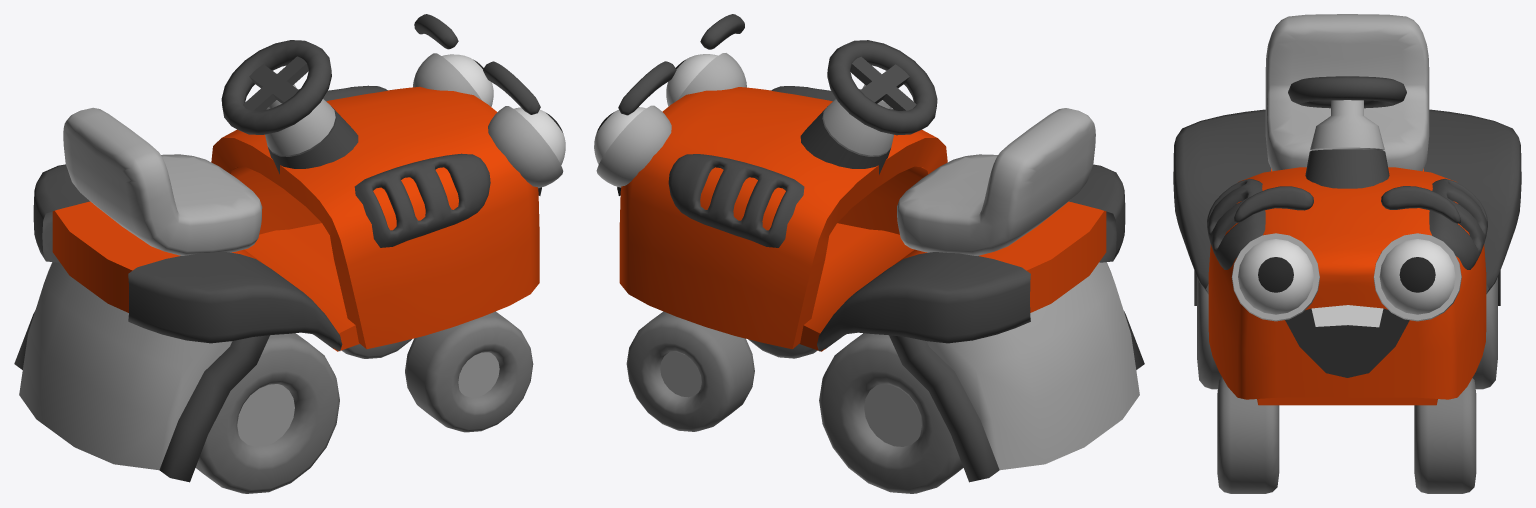
The model's file is SM_Truck_01.fbx.
3 renders of one model, left to right at view 1: azimuth 30°, elevation 25°; view 2: azimuth 150°, elevation 25°; view 3: azimuth 270°, elevation 25°, orthographic.
Parts seen in each view (by area): view 1: pCube2, pPlane5, pCube9, pPipe2, pPlane2, pPlane1, pPipe1, pCube5, pTorus1, pSphere2, pPlane6, pCylinder2 (+9 smaller); view 2: pCube2, pPlane5, pCube9, pPipe4, pPlane6, pPlane1, pPipe3, pCube6, pTorus1, pSphere4, pPlane2, pCylinder2 (+9 smaller); view 3: pCube2, pCube9, pPlane2, pPlane6, polySurface5, pPipe1, pPipe3, pSphere1, pSphere3, pCube6, pCube5, pTorus1 (+9 smaller).
Boxes of the visible parts, x1,y1,x2,y2 form: pCube2: (211, 86, 539, 349); pPlane5: (14, 262, 269, 482); pCube9: (63, 107, 262, 255); pPipe2: (195, 333, 339, 493); pPlane2: (128, 252, 342, 350); pPlane1: (52, 201, 359, 351); pPipe1: (405, 311, 533, 432); pCube5: (354, 153, 490, 247); pTorus1: (221, 40, 331, 134); pSphere2: (488, 106, 563, 188); pPlane6: (33, 164, 89, 262); pCylinder2: (265, 84, 335, 155); pCube2: (619, 87, 947, 349); pPlane5: (889, 262, 1144, 482); pCube9: (897, 108, 1095, 255); pPipe4: (819, 333, 963, 493); pPlane6: (817, 252, 1030, 351); pPlane1: (799, 201, 1106, 351); pPipe3: (626, 311, 754, 431); pCube6: (668, 154, 804, 247); pTorus1: (827, 40, 937, 135); pSphere4: (596, 105, 671, 187); pPlane2: (1069, 164, 1125, 262); pCylinder2: (823, 84, 893, 155); pCube2: (1208, 167, 1486, 399); pCube9: (1265, 14, 1429, 171); pPlane2: (1173, 109, 1270, 294); pPlane6: (1424, 109, 1521, 294); polySurface5: (1285, 305, 1409, 377); pPipe1: (1217, 377, 1279, 493); pPipe3: (1414, 378, 1476, 493); pSphere1: (1238, 239, 1313, 314); pSphere3: (1379, 239, 1455, 314); pCube6: (1429, 178, 1487, 269); pCube5: (1207, 178, 1265, 269); pTorus1: (1288, 76, 1406, 108).
Bounding box in the file's own units: 113 × 72.9 × 83.33.
